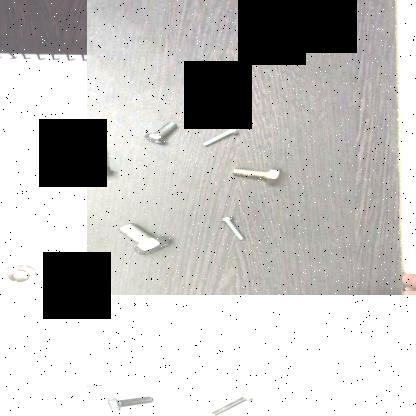Bolts: (107, 219, 184, 257), (227, 162, 285, 186), (209, 389, 257, 416), (102, 390, 158, 412), (87, 138, 116, 177), (142, 118, 184, 144), (216, 214, 252, 240), (197, 126, 242, 146), (87, 374, 107, 394)
NUTS: (0, 262, 41, 286), (78, 265, 87, 289)
